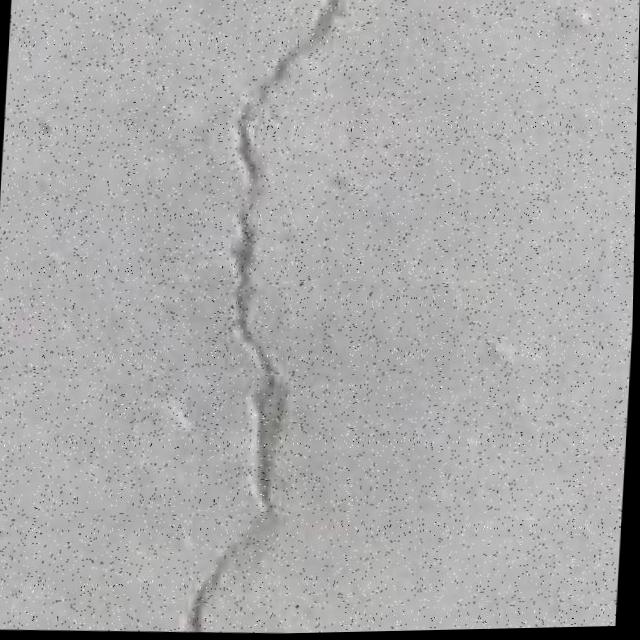Crack: (158, 0, 372, 637)
